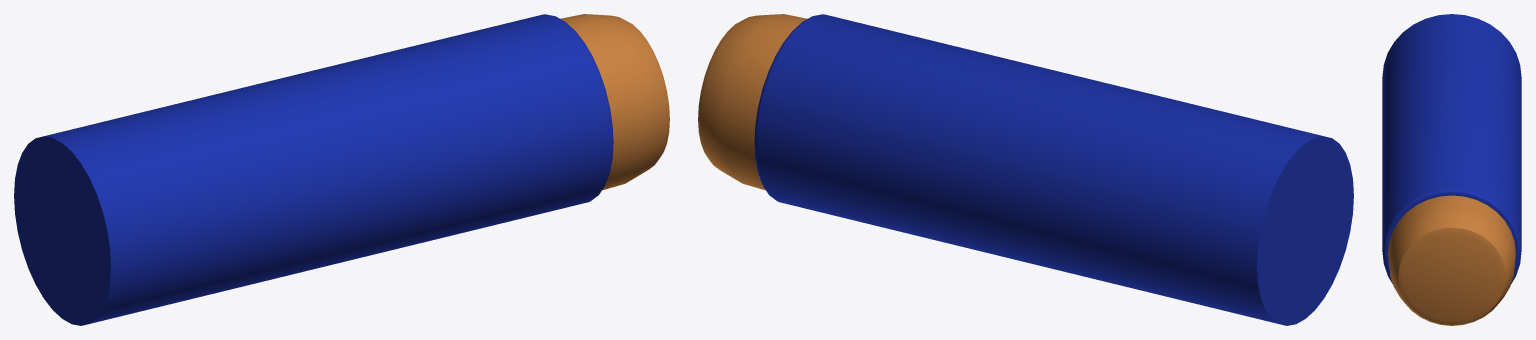
File: NerfBullet.fbx
3 renders of one model, left to right at view 1: azimuth 30°, elevation 25°; view 2: azimuth 150°, elevation 25°; view 3: azimuth 270°, elevation 25°, orthographic. The views are drawn at different scales.
Parts seen in each view (by area): view 1: NerfBullet; view 2: NerfBullet; view 3: NerfBullet.
Part boxes in pixels (x1,y1,x2,y2): NerfBullet: [14, 14, 669, 325]; NerfBullet: [698, 14, 1353, 325]; NerfBullet: [1382, 14, 1521, 325].
Bounding box in the file's own units: 1.19 × 0.3497 × 0.3497.
Materials: 1 (1 with a texture image).
